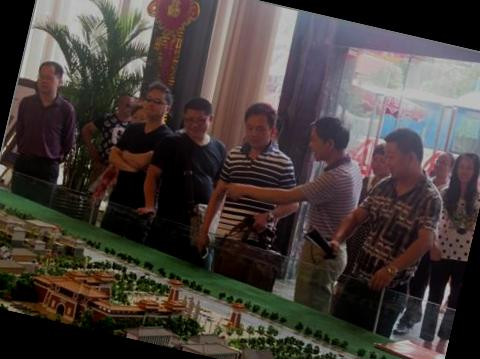no_helmet: (373, 122, 429, 190), (304, 110, 354, 168), (236, 95, 285, 152), (174, 93, 218, 143), (136, 78, 176, 127), (447, 143, 480, 195), (30, 58, 64, 100), (365, 142, 396, 183), (431, 149, 456, 183)
